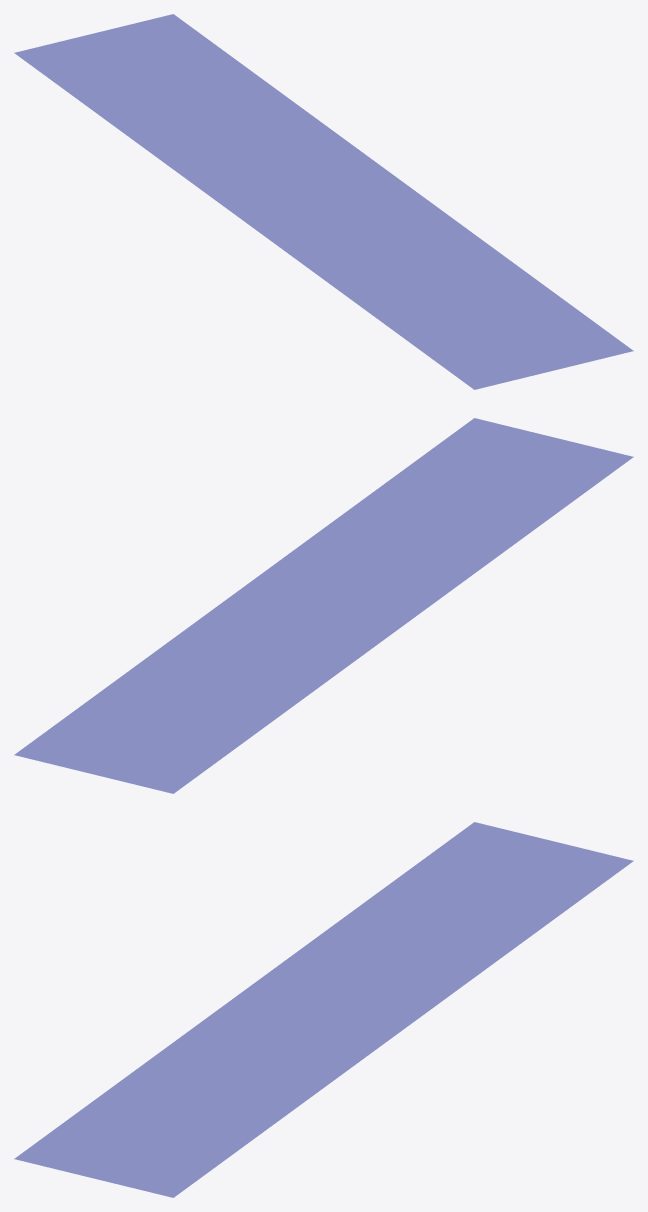
Rendered from Floor_1x_5x.FBX.
The picture shows the model from 3 angles, top to bottom: view 1: azimuth 30°, elevation 25°; view 2: azimuth 150°, elevation 25°; view 3: azimuth 330°, elevation 25°; orthographic projection.
Parts seen in each view (by area): view 1: Floor_1x_5x; view 2: Floor_1x_5x; view 3: Floor_1x_5x.
Part boxes in pixels (x1,y1,x2,y2): Floor_1x_5x: (14, 14, 633, 389); Floor_1x_5x: (14, 418, 633, 793); Floor_1x_5x: (14, 822, 633, 1197).
Size of the model in its own units: 100 by 500 by 2.19e-05.
